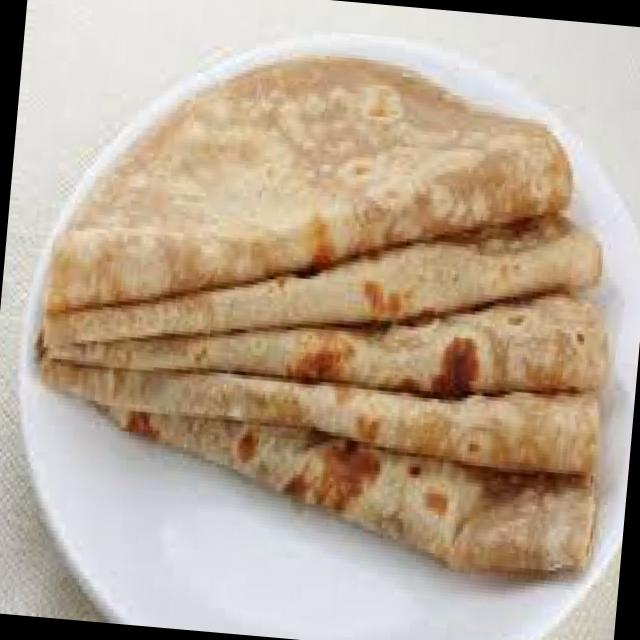roti: (32, 50, 611, 576)
